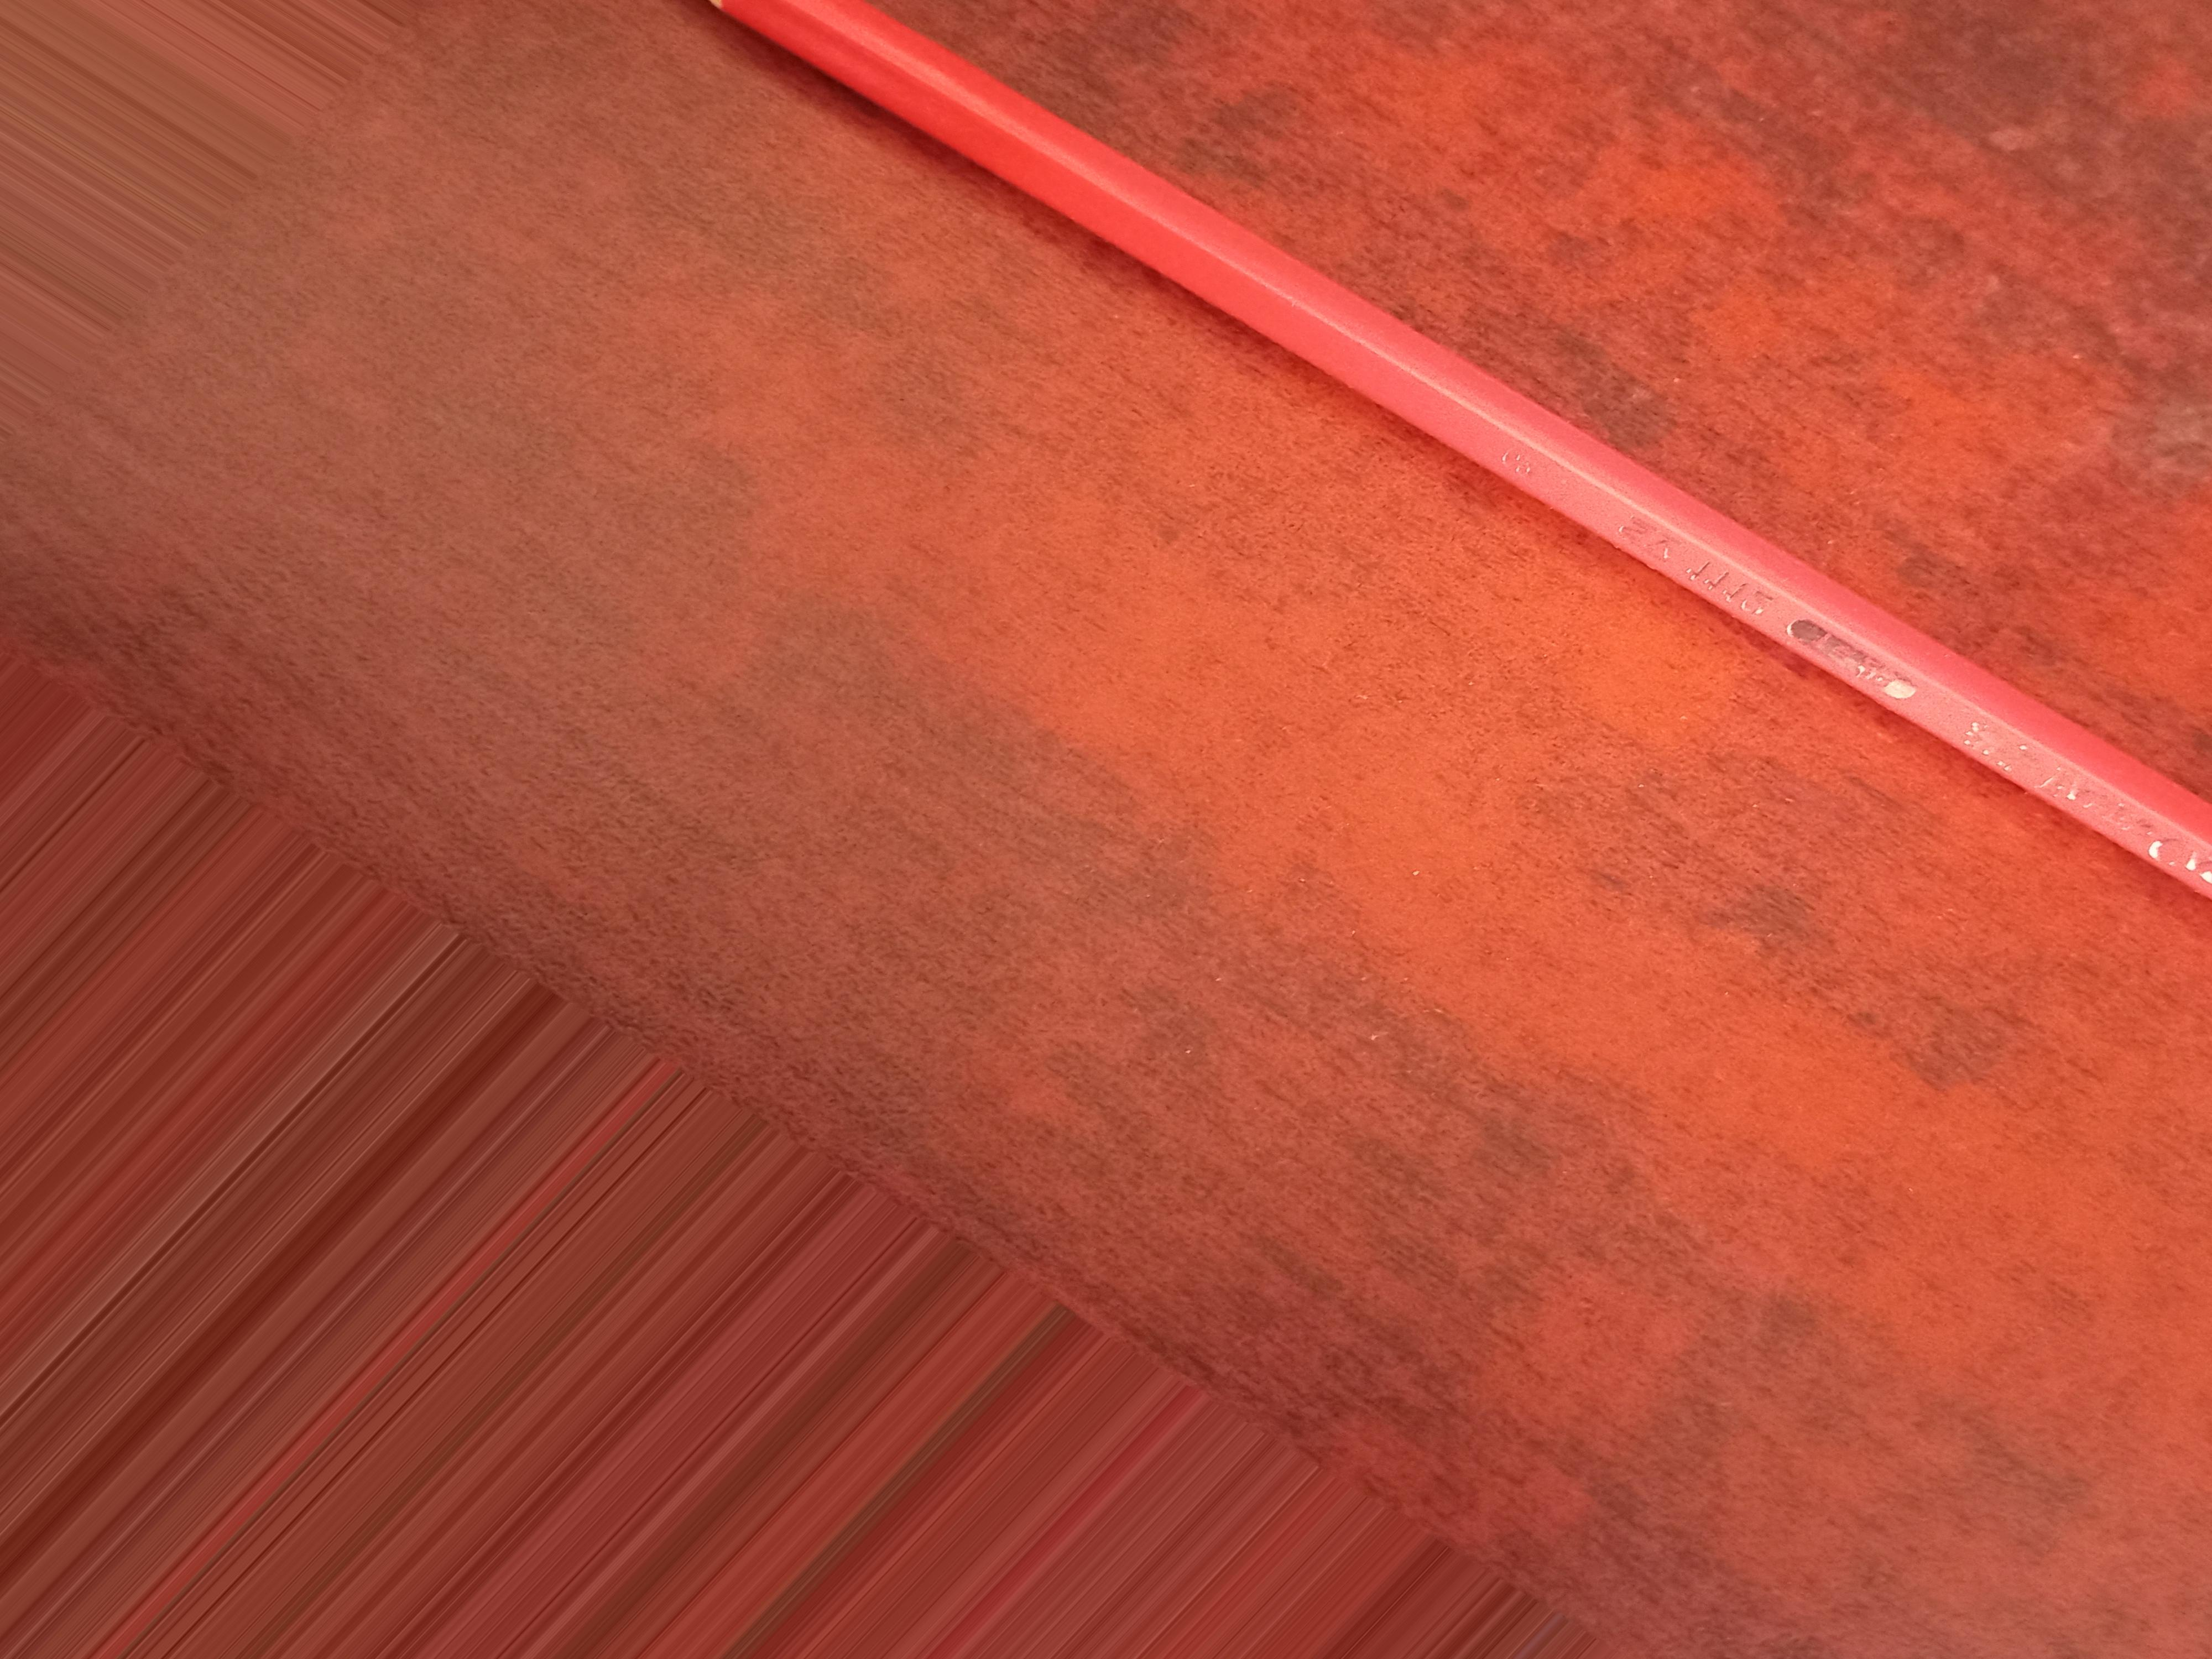pencil: (592, 0, 2203, 979)
